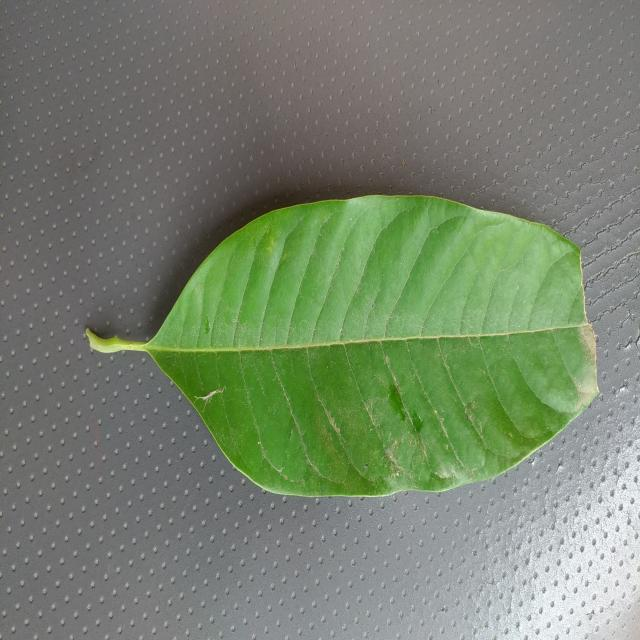coffee: (88, 196, 598, 496)
